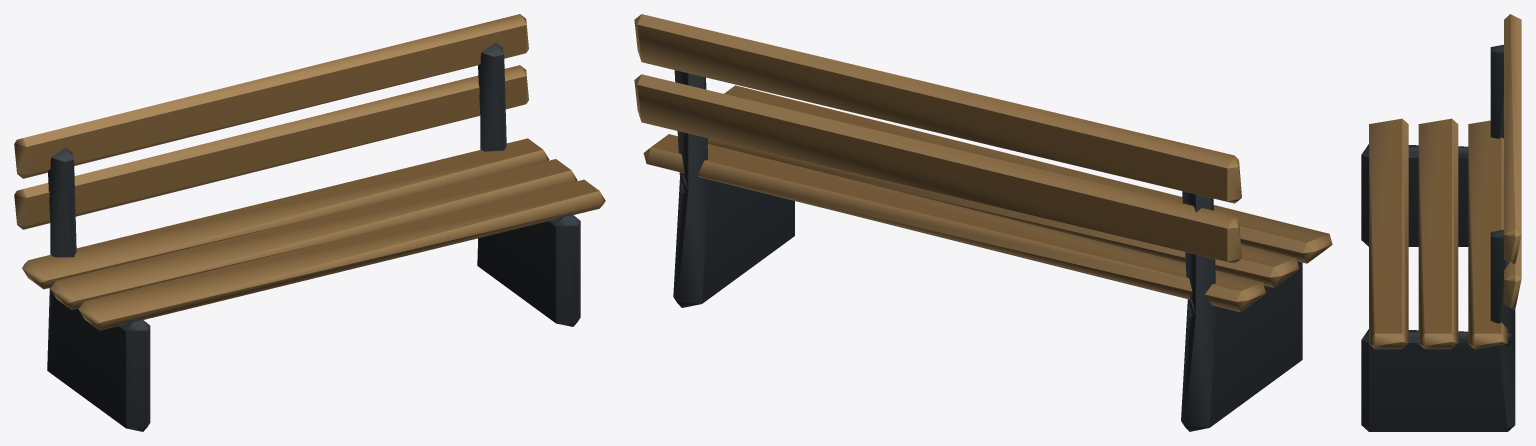
The model's file is bench-v1.lod1.glb.
3 renders of one model, left to right at view 1: azimuth 30°, elevation 25°; view 2: azimuth 150°, elevation 25°; view 3: azimuth 270°, elevation 25°, orthographic. The views are drawn at different scales.
Visible parts, largest first — view 1: bench-v1.lod1; view 2: bench-v1.lod1; view 3: bench-v1.lod1.
Boxes of the visible parts, box(x1,y1,x2,y2) form: bench-v1.lod1: box(14, 14, 605, 431); bench-v1.lod1: box(634, 14, 1332, 431); bench-v1.lod1: box(1361, 14, 1521, 431).
Bounding box in the file's own units: 2.1 × 0.96 × 0.645.
